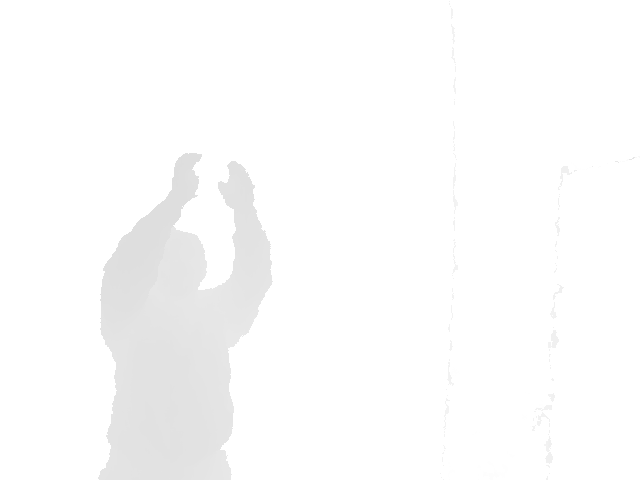hand: (216, 159, 257, 207), (170, 152, 203, 200)
head: (142, 228, 209, 300)
person: (96, 151, 274, 479)
